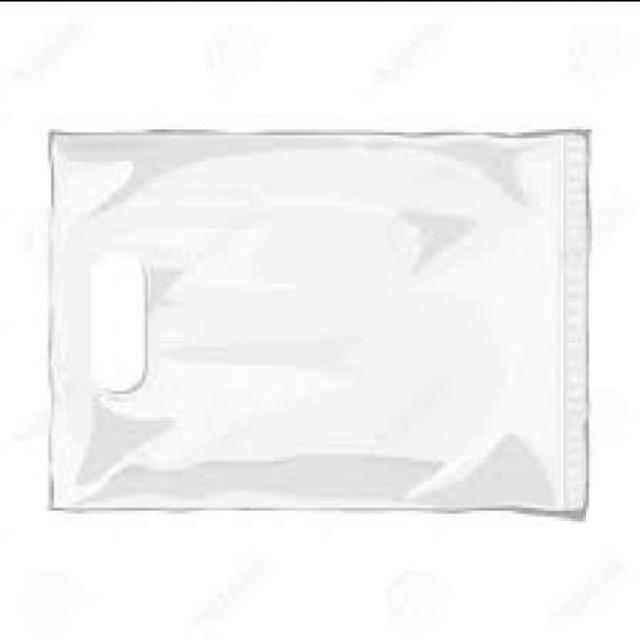PLASTIC: (43, 124, 586, 516)
